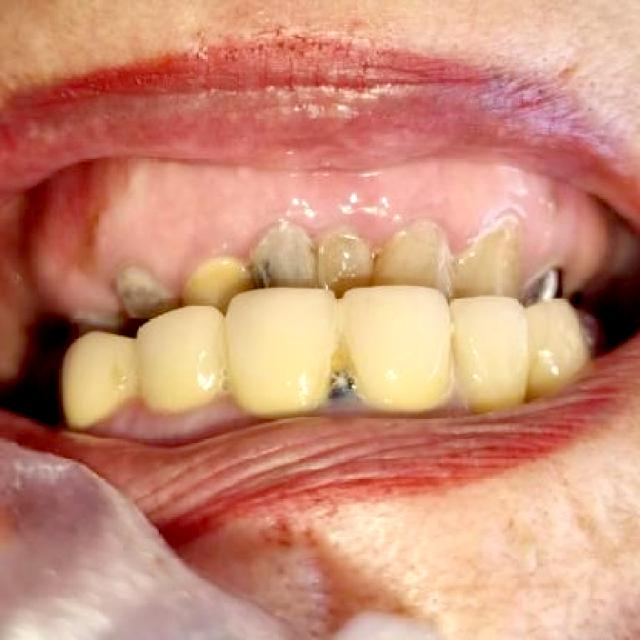Plaque: (32, 164, 607, 312), (234, 247, 290, 309), (307, 353, 362, 412), (114, 274, 176, 319)
